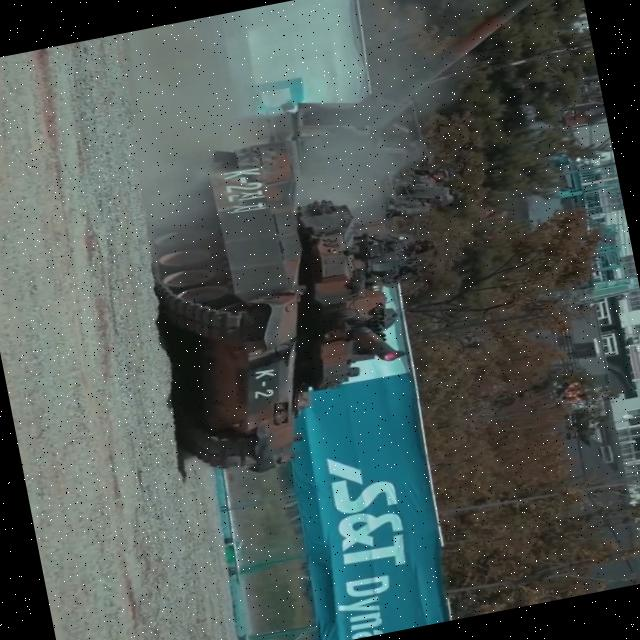korea tank: (127, 110, 470, 487)
